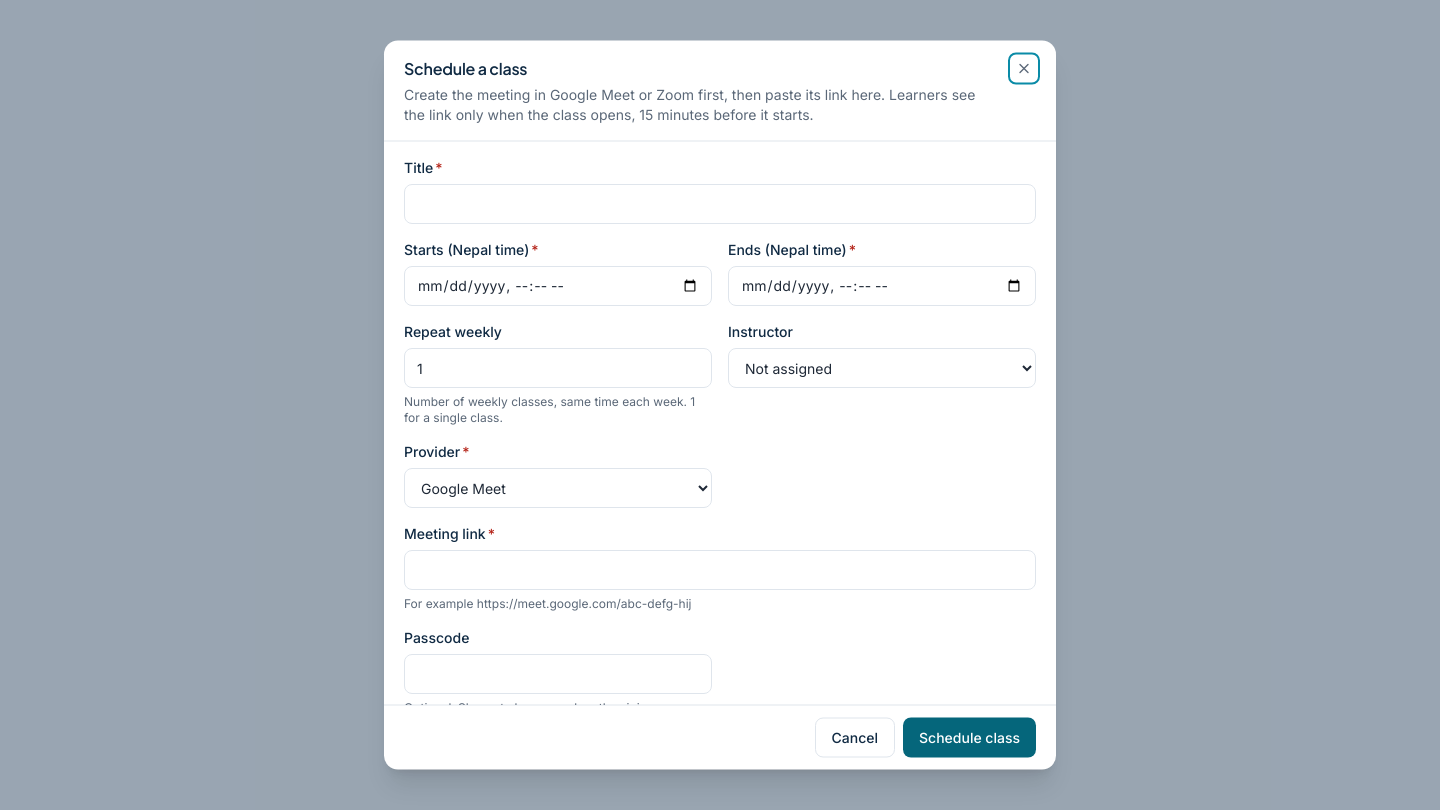
Test case: SessionDialog › shows the server's field errors
Type "Q&A" into the field labelled "Title*" at [720, 204], box [404,184,1036,224]
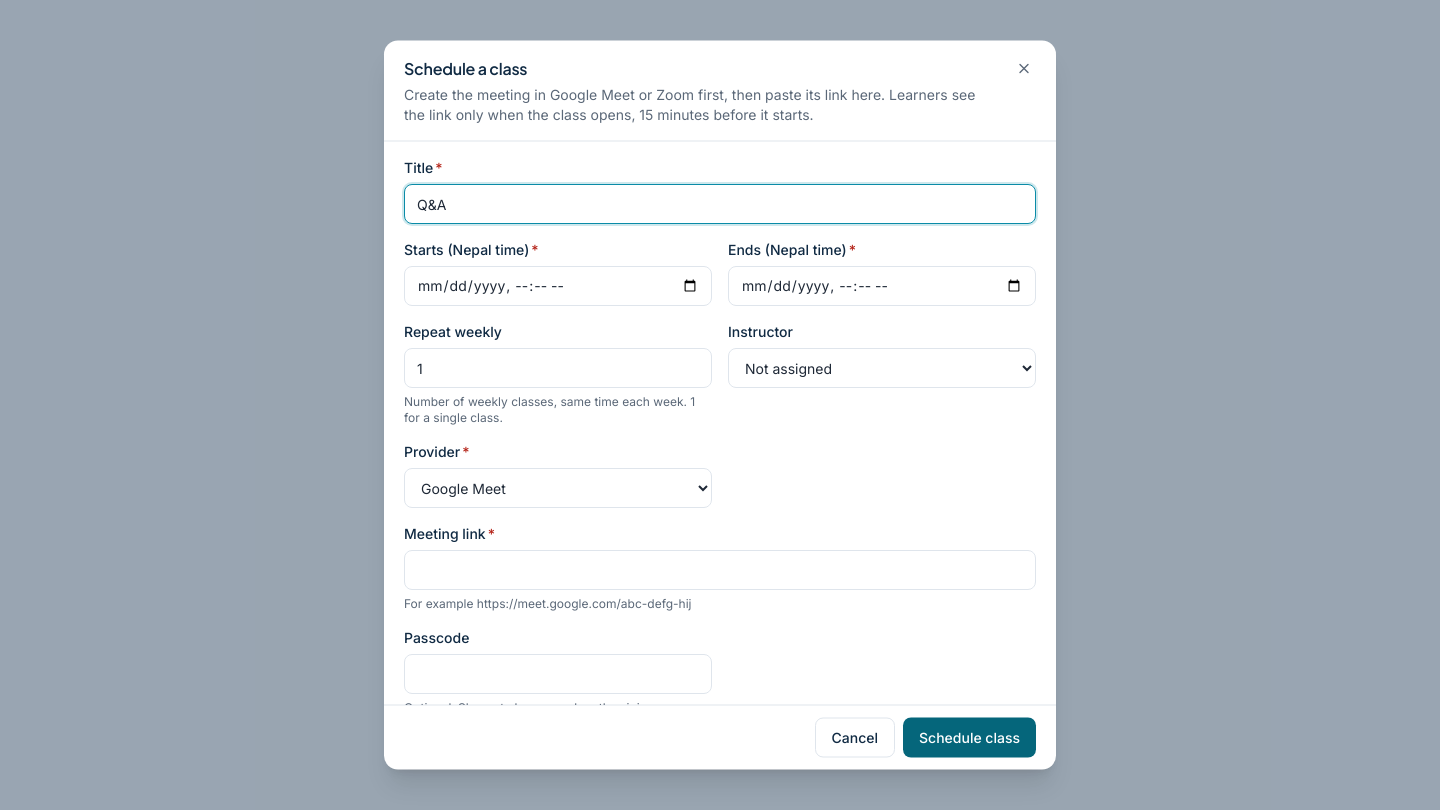
Type "2026-11-02T18:00" into the field labelled "Starts (Nepal time)*" at [558, 286], box [404,266,712,306]
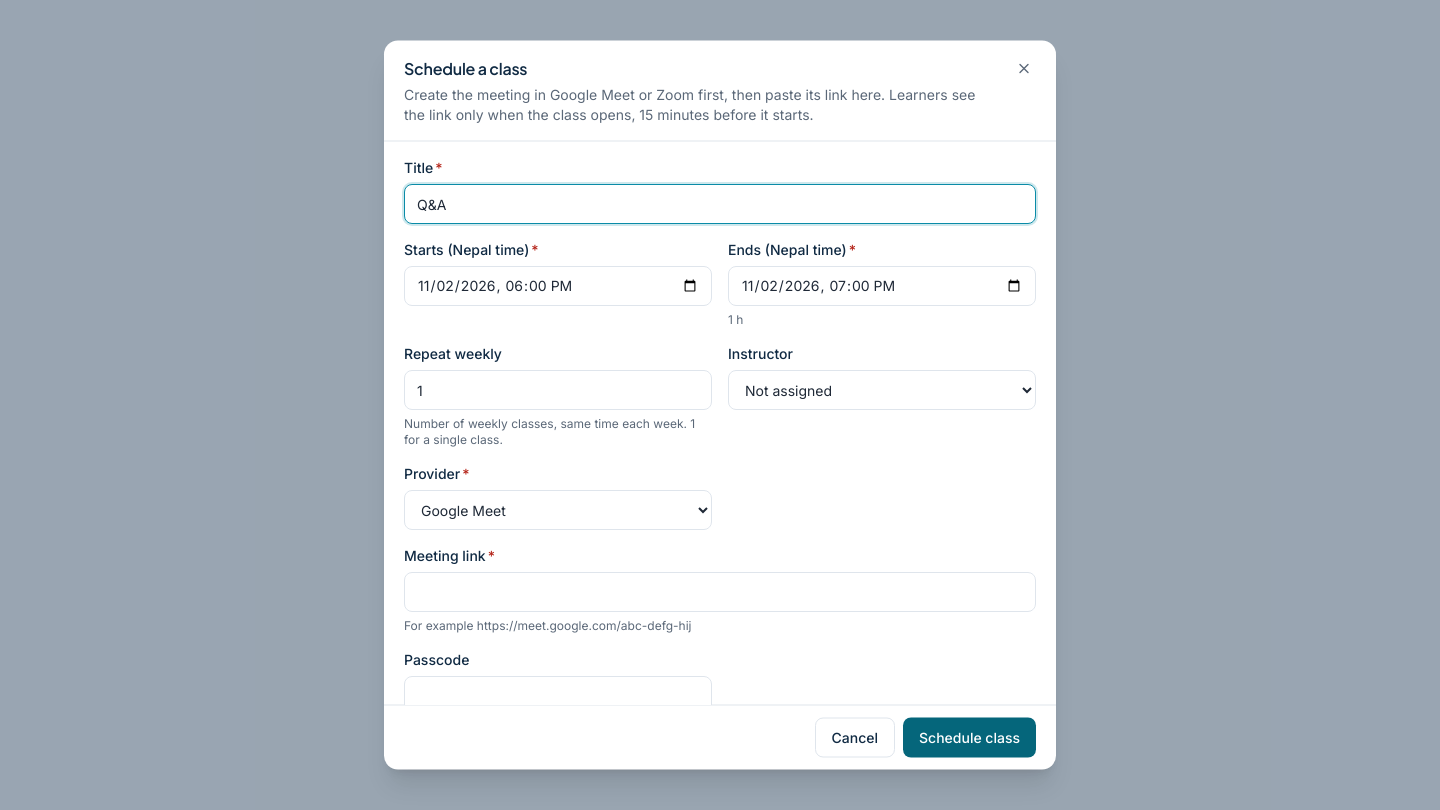
Type "https://example.com/x" into the field labelled "Meeting link*" at [720, 592], box [404,572,1036,612]
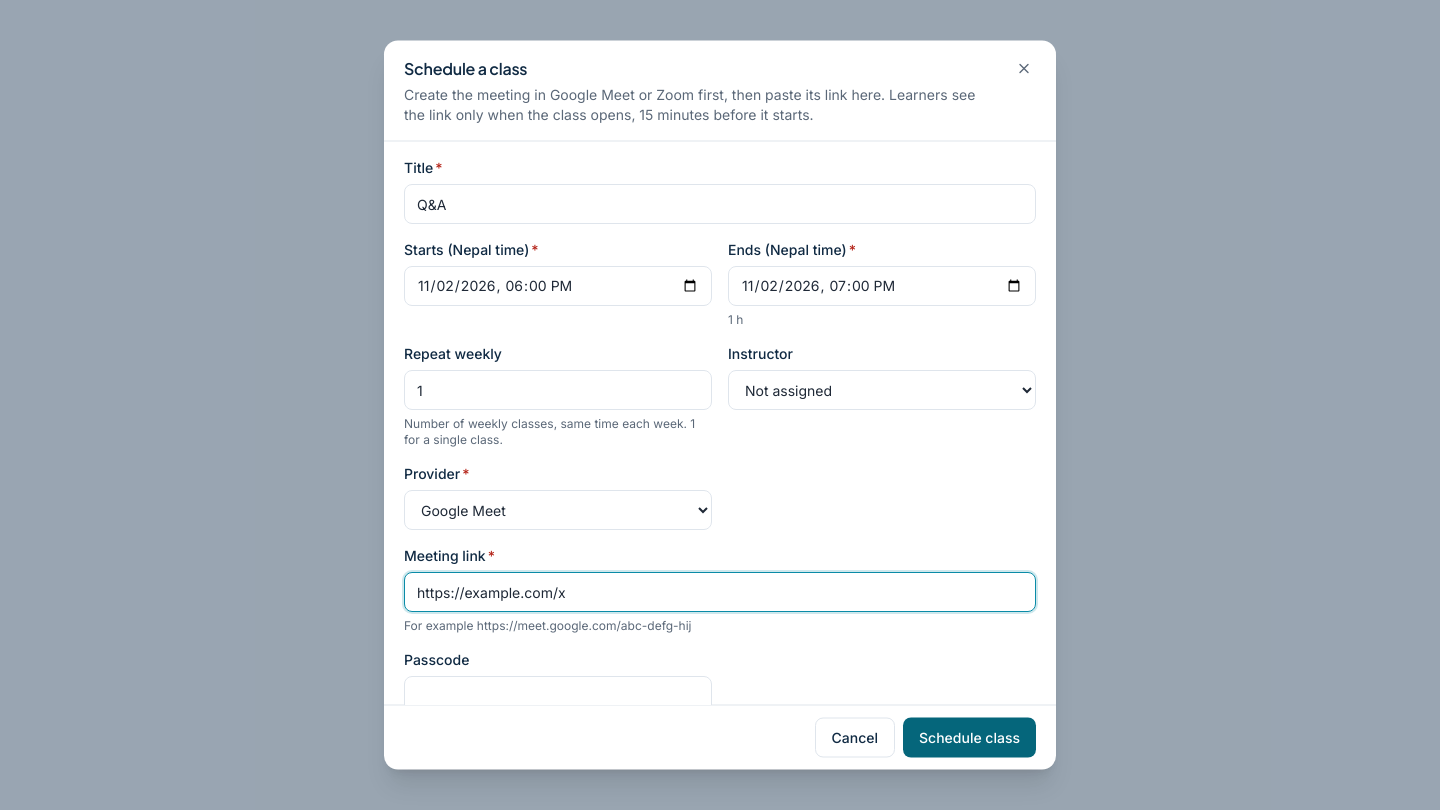
Click the button "Schedule class" at [970, 738], box [903,718,1036,758]
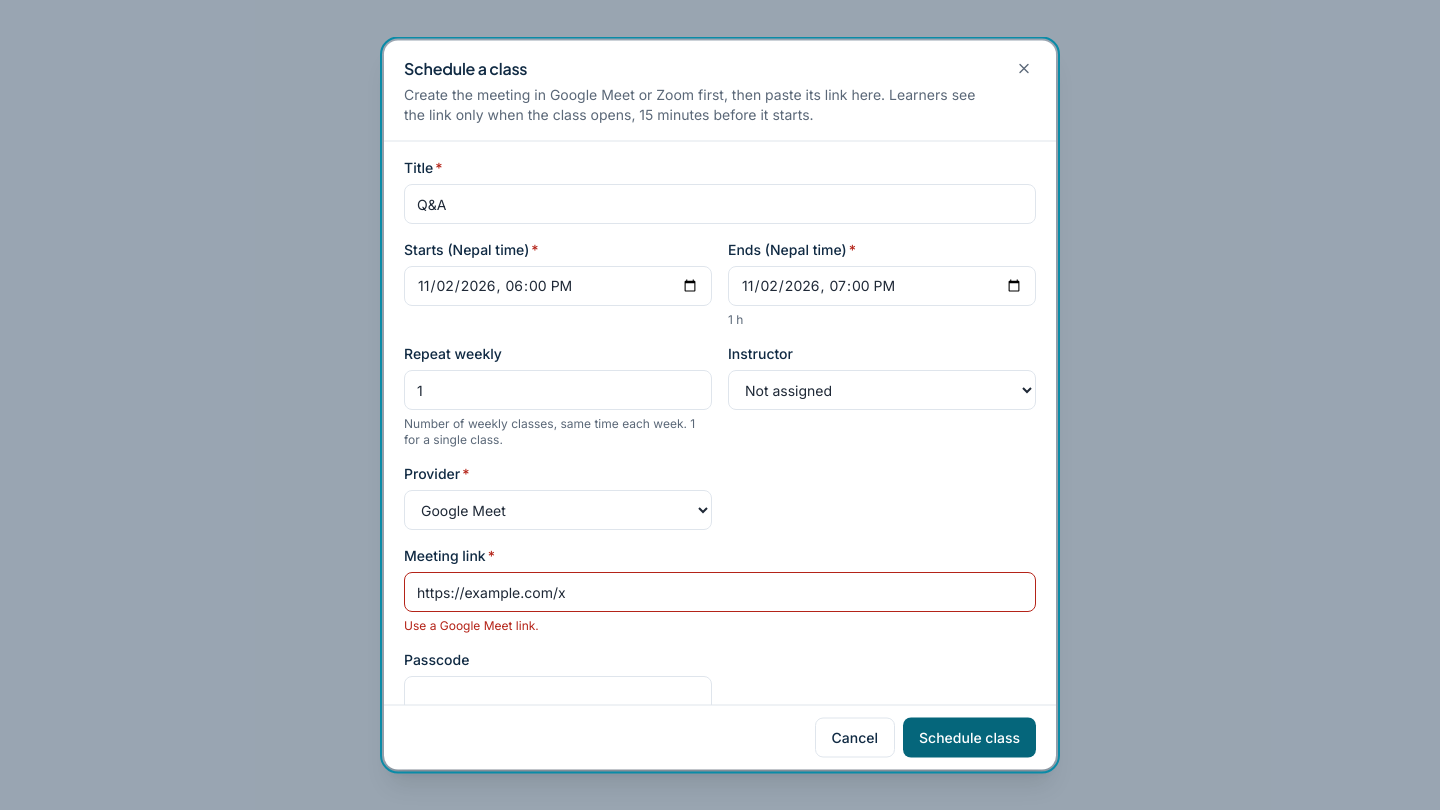
Check: the text "Use a Google Meet link." is shown, box [404,618,539,632]
